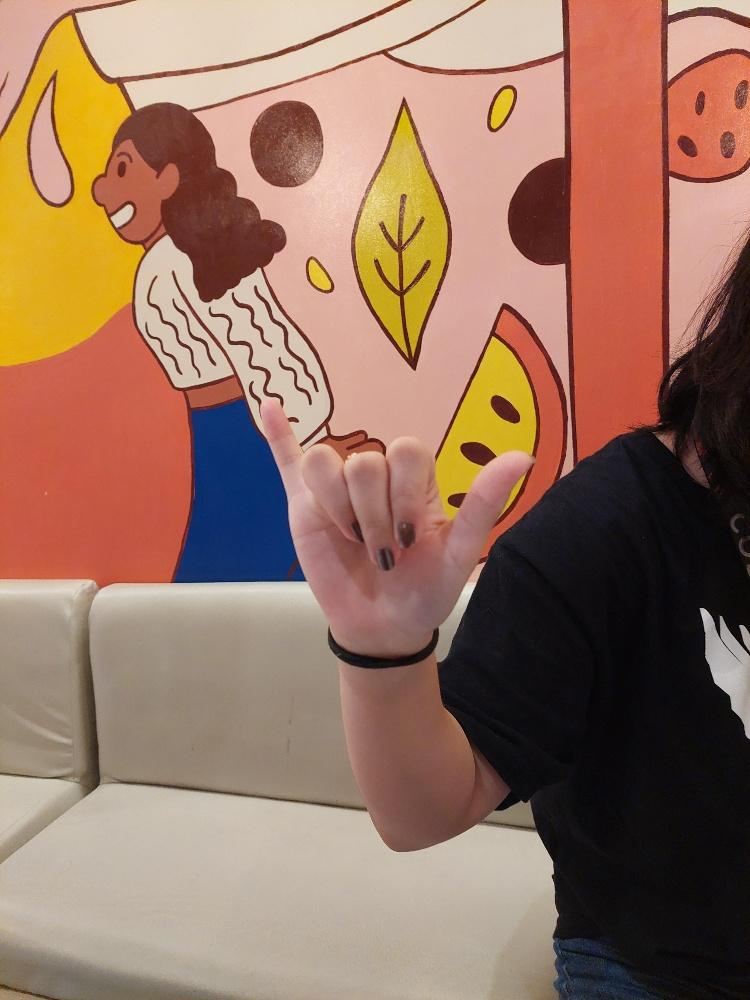y: (256, 394, 538, 657)
